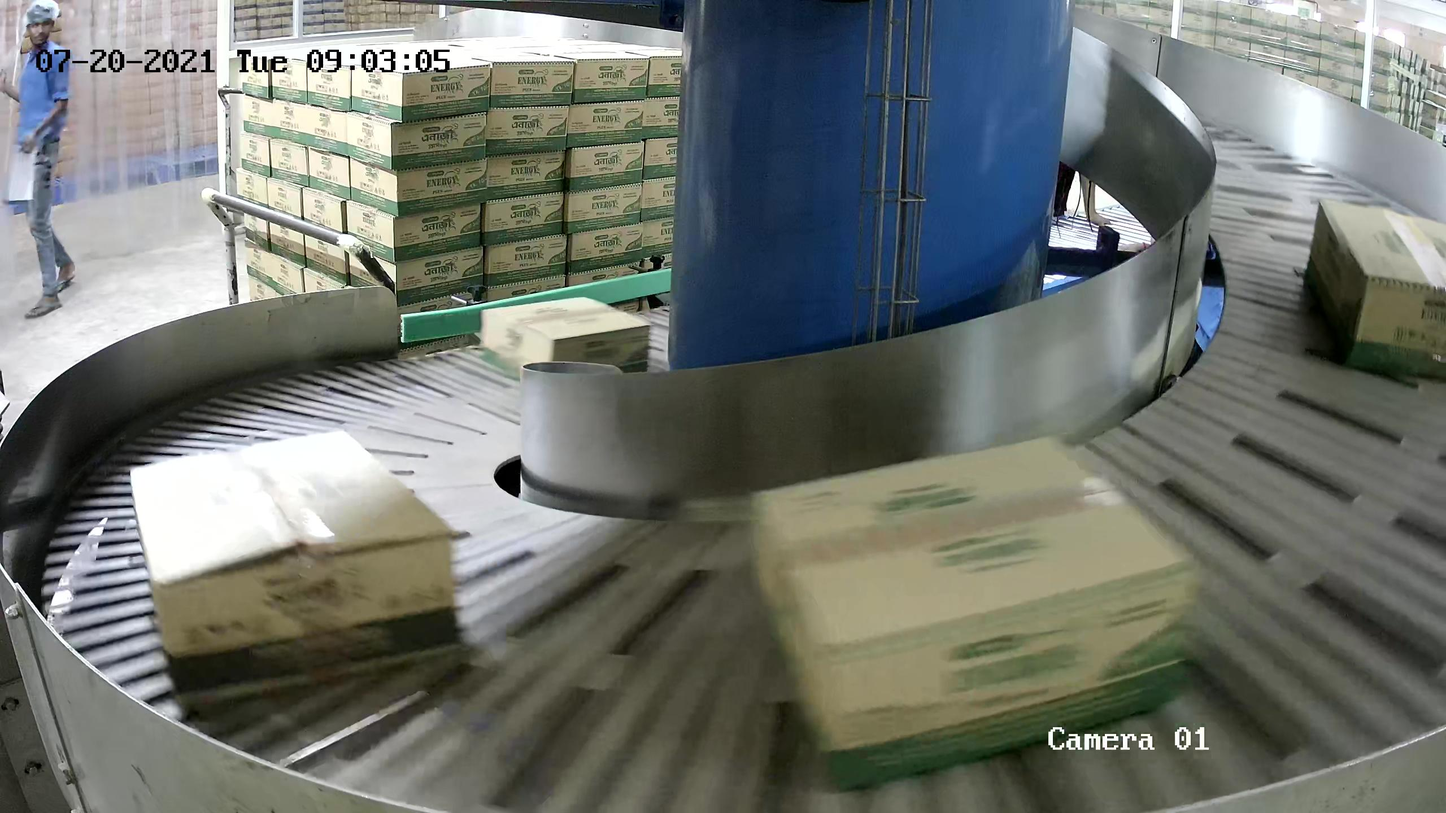Box: (743, 430, 1201, 791), (129, 428, 468, 710), (1301, 196, 1446, 382), (479, 294, 655, 389)
